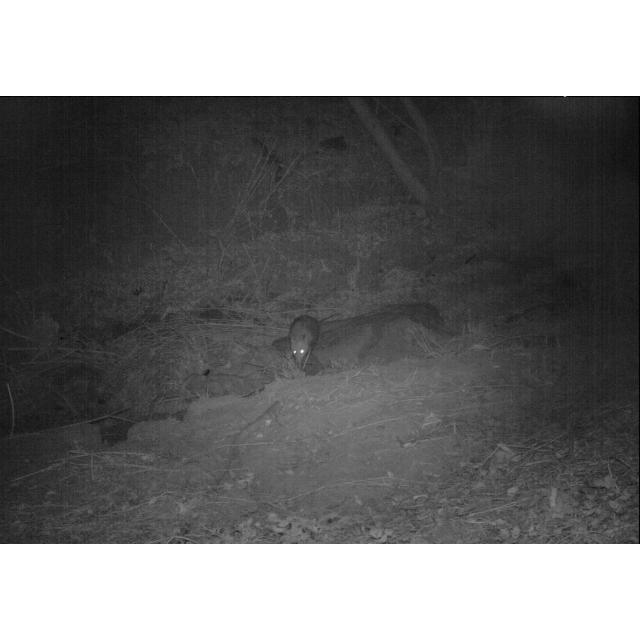animals: (286, 312, 346, 372)
